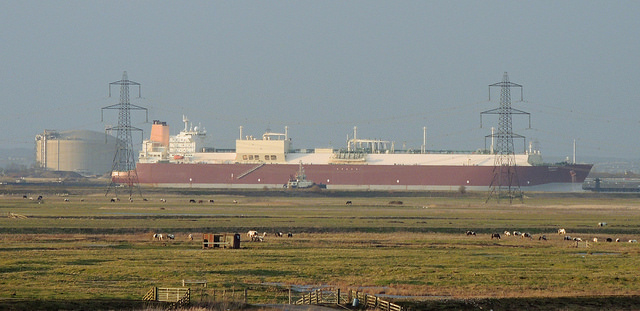LNG_ship: (122, 120, 603, 195)
tug_boat: (286, 159, 325, 191)
